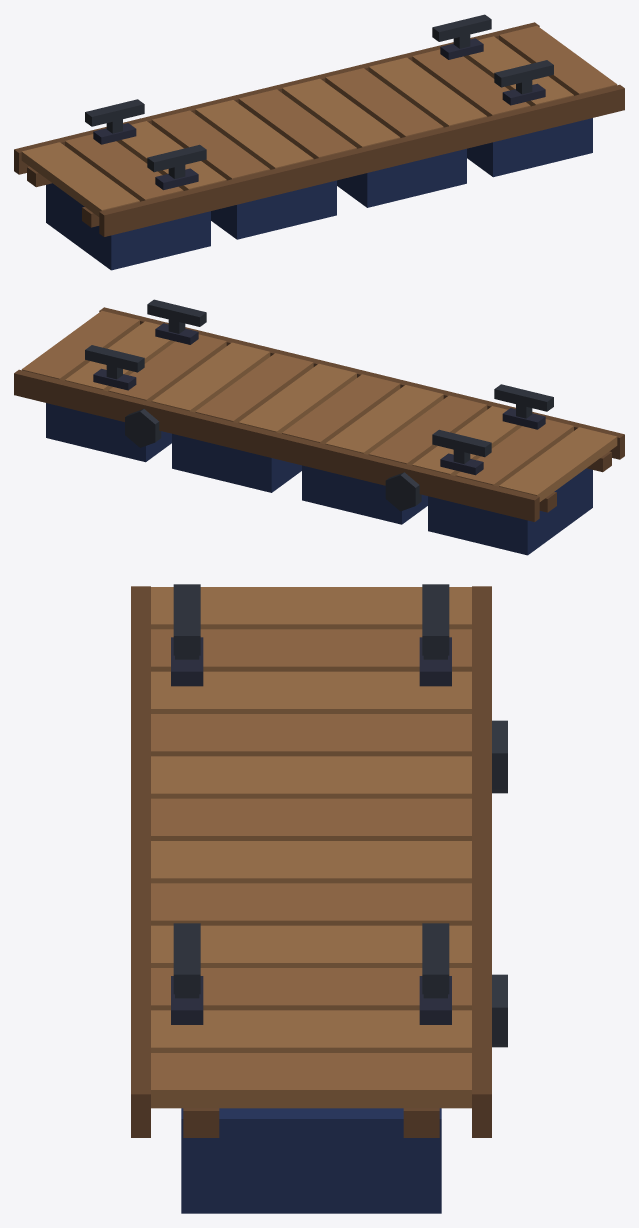
The model's file is pontoon.glb.
3 renders of one model, top to bottom at view 1: azimuth 30°, elevation 25°; view 2: azimuth 150°, elevation 25°; view 3: azimuth 270°, elevation 25°, orthographic. The views are drawn at different scales.
Visible parts, largest first — view 1: pontoon; view 2: pontoon; view 3: pontoon.
Part boxes in pixels (x1,y1,x2,y2): pontoon: (14,14,624,270); pontoon: (14,299,624,555); pontoon: (131,584,507,1213).
Size of the model in its own units: 6 by 1.09 by 1.88.
